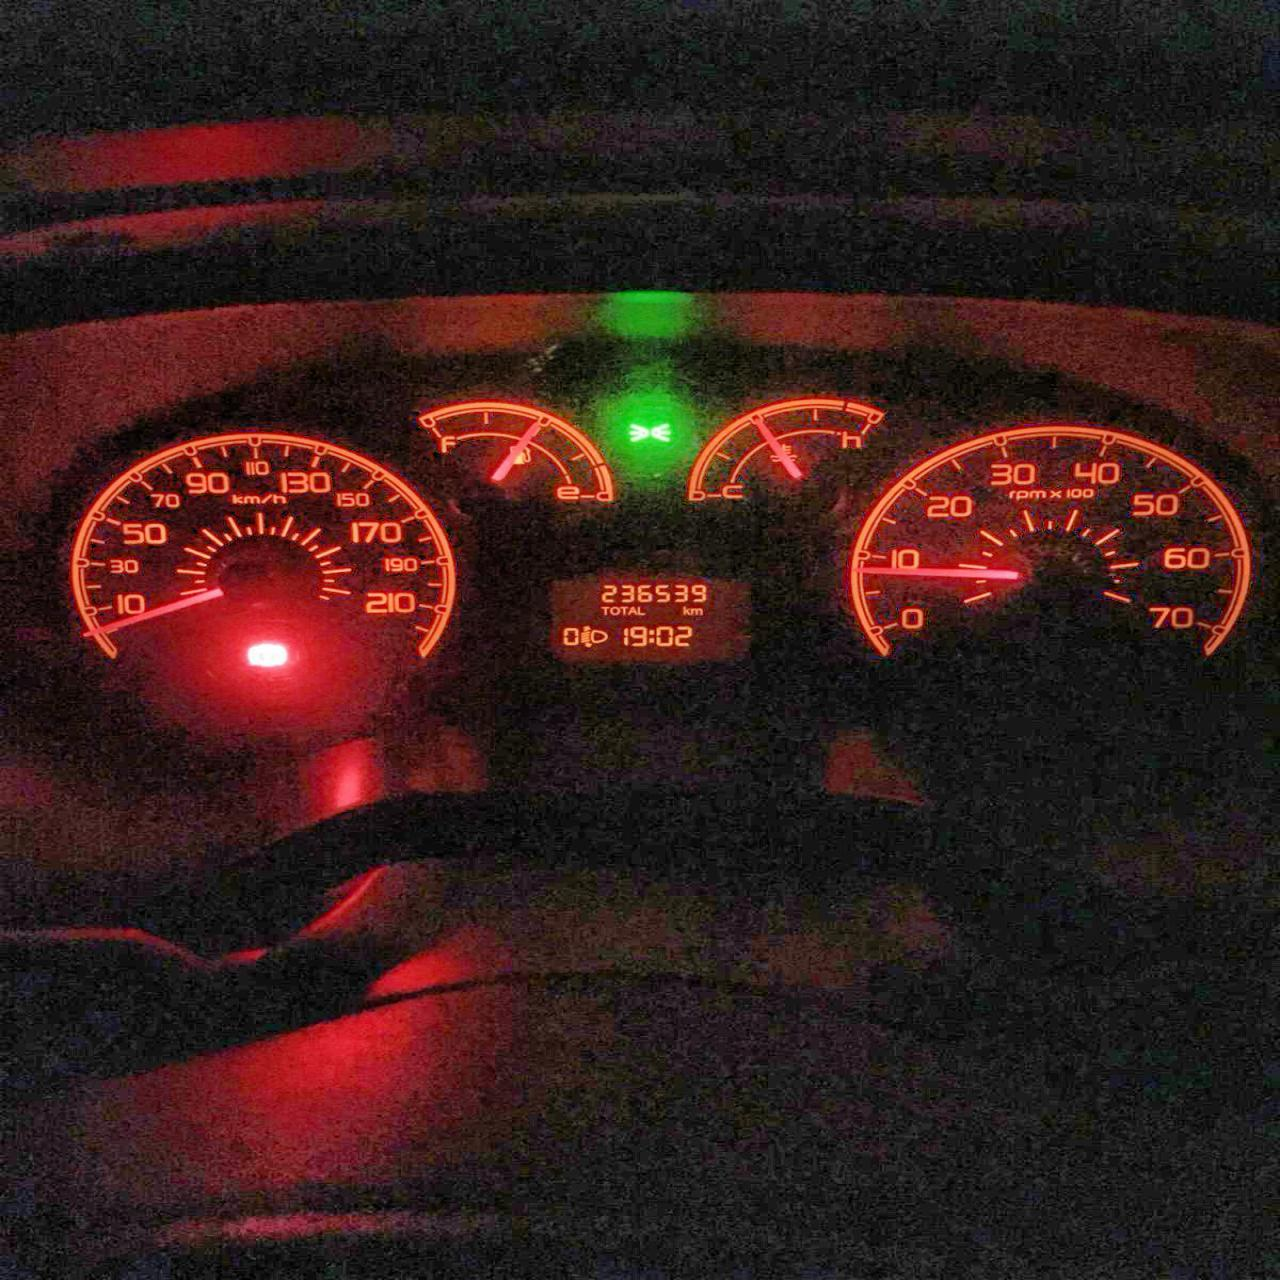0: (655, 625, 673, 646), (561, 626, 578, 647)
1: (621, 626, 628, 648)
2: (674, 625, 693, 647), (600, 583, 615, 602)
3: (674, 583, 688, 602), (620, 583, 633, 602)
5: (655, 584, 670, 602)
6: (635, 584, 652, 602)
9: (628, 625, 646, 646), (690, 584, 706, 601)
X: (646, 628, 654, 642), (610, 606, 620, 615), (690, 607, 703, 614), (681, 605, 690, 614), (635, 606, 645, 614), (627, 606, 636, 614), (600, 606, 610, 614), (620, 605, 627, 614)
odometer: (553, 579, 723, 659)
